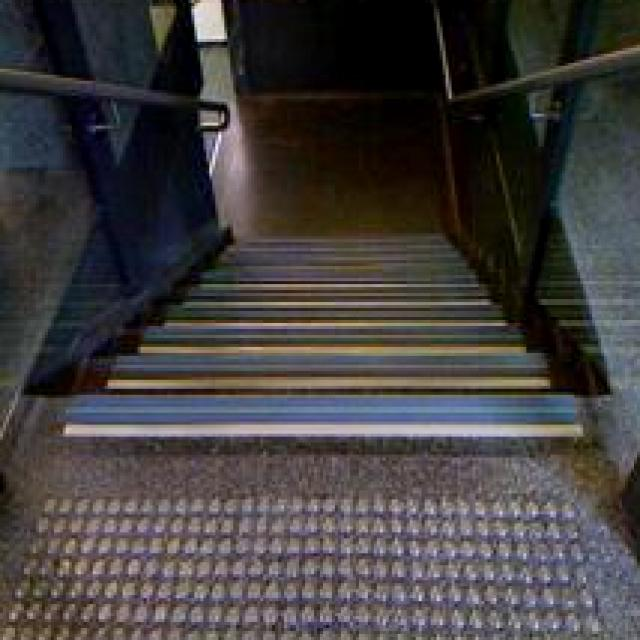downstair: (31, 312, 581, 524)
